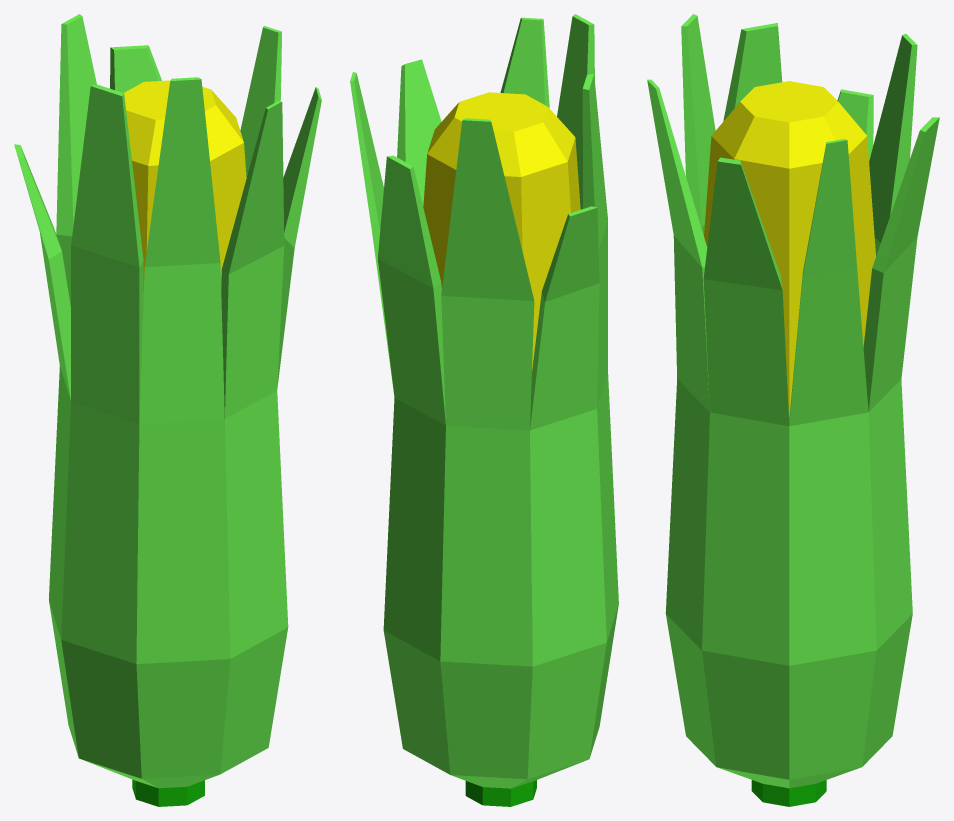
File: corn01.obj
3 renders of one model, left to right at view 1: azimuth 30°, elevation 25°; view 2: azimuth 150°, elevation 25°; view 3: azimuth 270°, elevation 25°, orthographic.
Visible parts, largest first — view 1: Cylinder; view 2: Cylinder; view 3: Cylinder.
Boxes of the visible parts, box(x1,y1,x2,y2) form: Cylinder: box(14, 14, 321, 806); Cylinder: box(350, 14, 618, 806); Cylinder: box(647, 14, 939, 806).
Size of the model in its own units: 0.087 by 0.2457 by 0.0864.
1 material, 1 textured.
